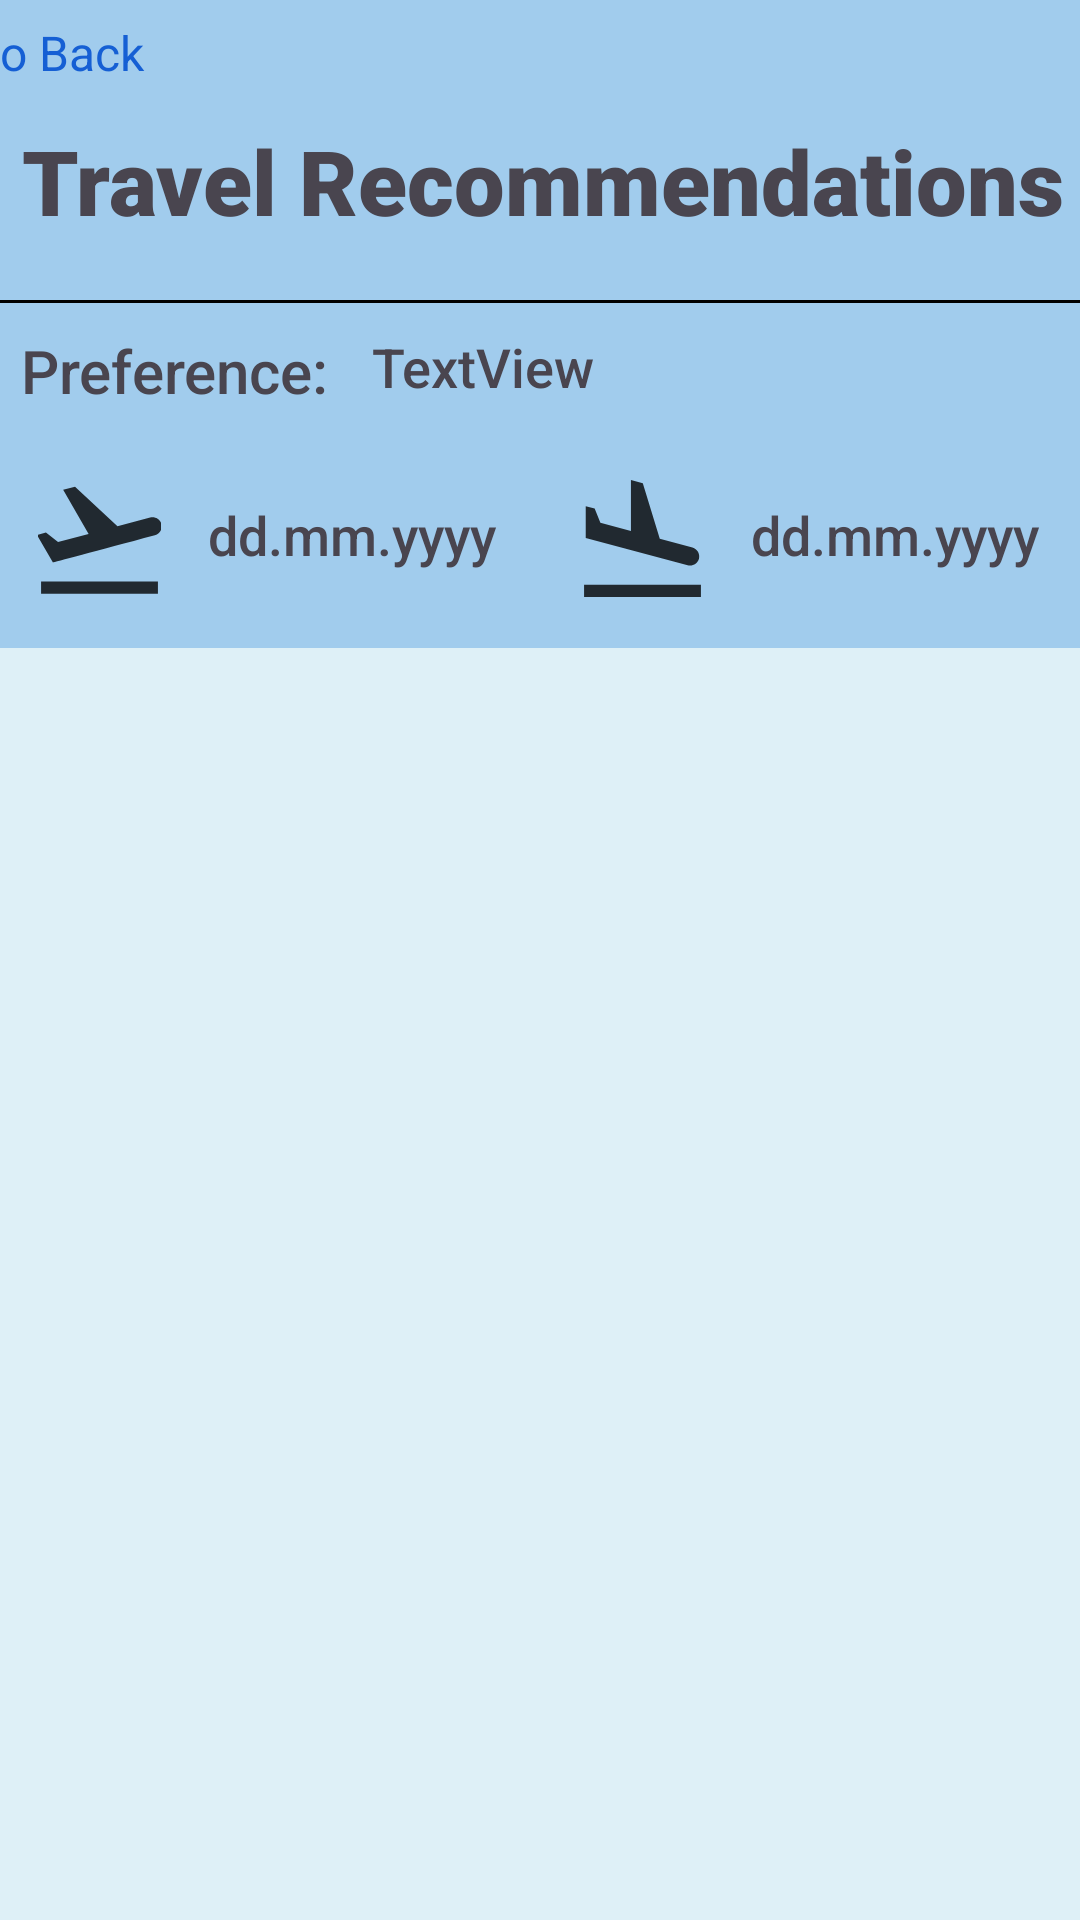

Where icons sit on this 1080px×1920px app screen, as (x1, y1, x2, y2):
arrival: (584, 480, 701, 597)
depature: (38, 487, 161, 594)
